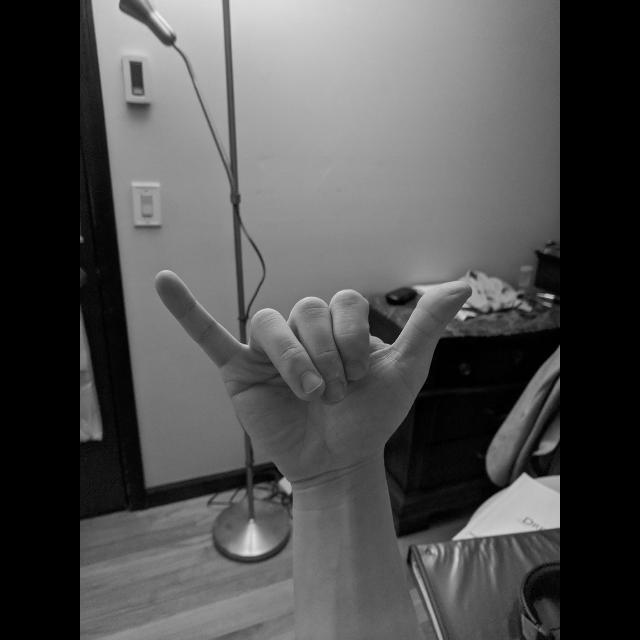Y: (151, 264, 477, 483)
